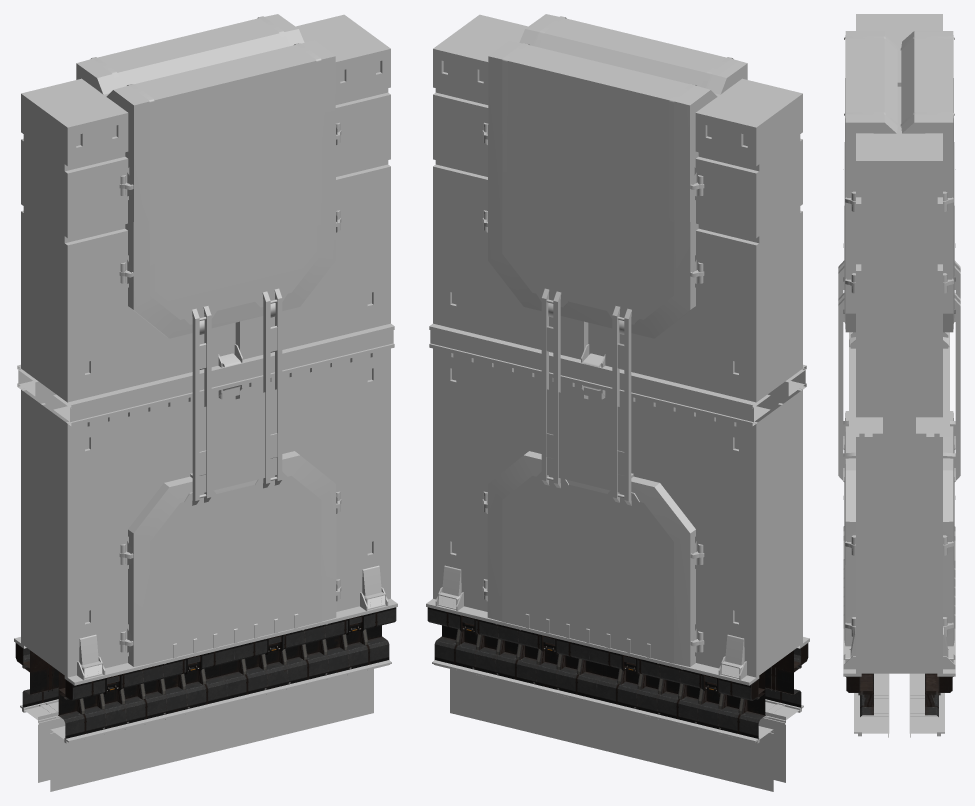
The model's file is Wall_Large_07_LOD1.fbx.
The picture shows the model from 3 angles, left to right: view 1: azimuth 30°, elevation 25°; view 2: azimuth 150°, elevation 25°; view 3: azimuth 270°, elevation 25°; orthographic projection. The views are drawn at different scales.
Parts seen in each view (by area): view 1: Concrete_Blocks, Element1, Element4, Element6, Element7, Grid_Panel1, Grid, Element2, Element5; view 2: Concrete_Blocks, Element1, Element4, Element6, Element7, Grid_Panel1, Grid, Element2, Element5; view 3: Concrete_Blocks, Element1, Element7, Element6, Element4, Element2.
Part boxes in pixels (left/top/right/bottom): Concrete_Blocks: left=21, top=14, right=390, bottom=677; Element1: left=14, top=565, right=397, bottom=791; Element4: left=15, top=607, right=396, bottom=739; Element6: left=17, top=16, right=394, bottom=663; Element7: left=184, top=288, right=287, bottom=505; Grid_Panel1: left=199, top=389, right=276, bottom=493; Grid: left=18, top=330, right=393, bottom=422; Element2: left=117, top=120, right=343, bottom=656; Element5: left=218, top=322, right=242, bottom=403; Concrete_Blocks: left=433, top=14, right=802, bottom=677; Element1: left=426, top=565, right=809, bottom=791; Element4: left=427, top=607, right=808, bottom=739; Element6: left=429, top=16, right=806, bottom=663; Element7: left=536, top=288, right=639, bottom=505; Grid_Panel1: left=547, top=389, right=624, bottom=493; Grid: left=430, top=330, right=805, bottom=422; Element2: left=480, top=120, right=706, bottom=656; Element5: left=581, top=322, right=605, bottom=403; Concrete_Blocks: left=844, top=14, right=954, bottom=673; Element1: left=843, top=526, right=955, bottom=737; Element7: left=838, top=260, right=960, bottom=481; Element6: left=843, top=36, right=955, bottom=499; Element4: left=845, top=673, right=953, bottom=716; Element2: left=845, top=187, right=953, bottom=636.
Size of the model in its own units: 1604 by 3262 by 562.
